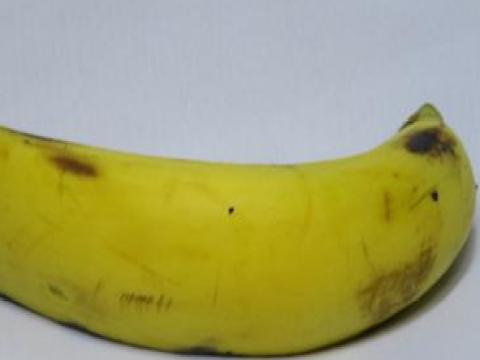freshripe: (0, 92, 479, 356)
